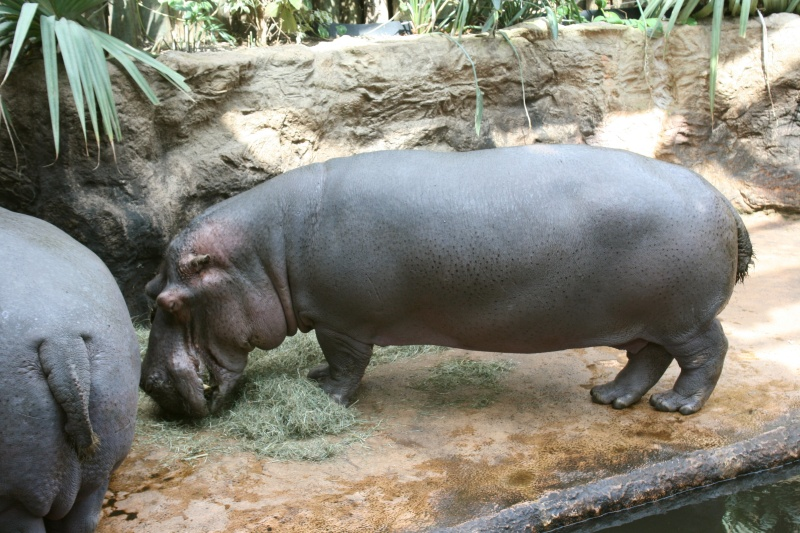hipopotamo: (135, 142, 750, 414), (0, 203, 150, 526)
